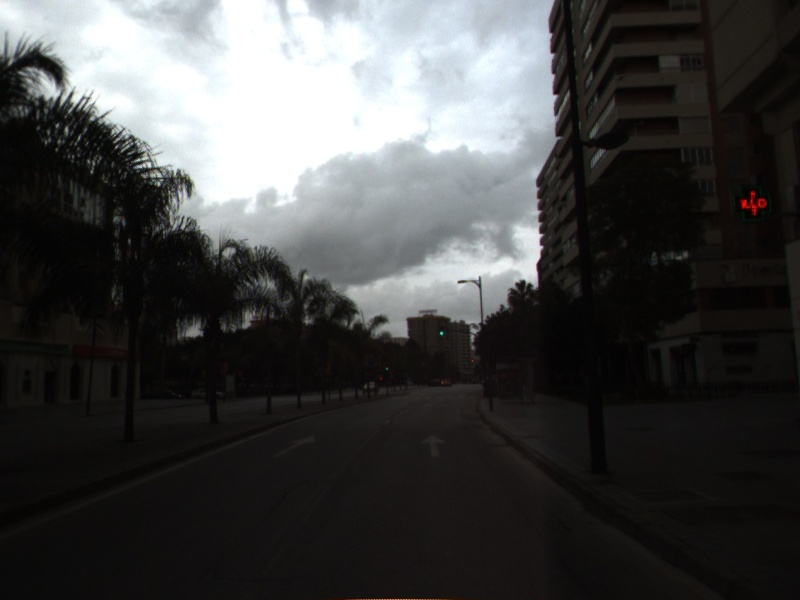STRAIGHT: (268, 434, 317, 460), (418, 432, 448, 460)
